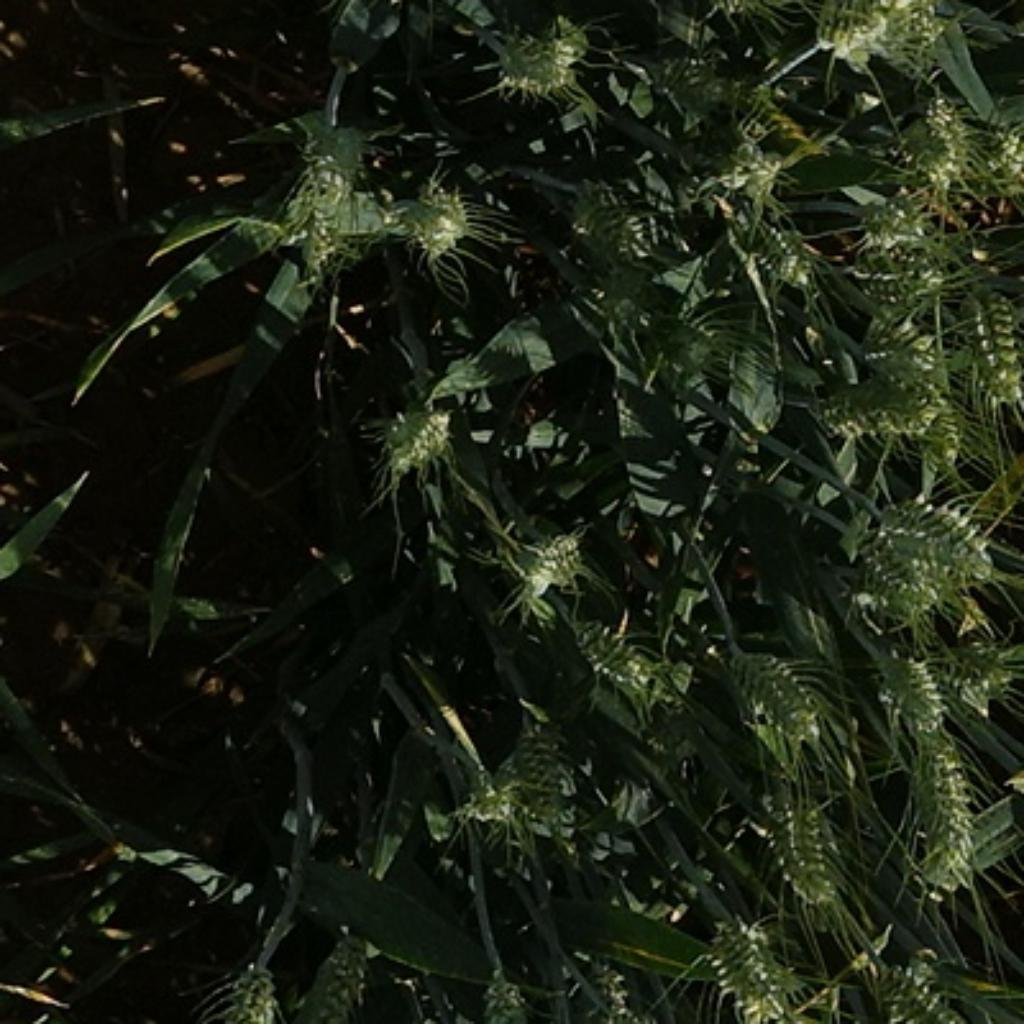0-0: (448, 704, 588, 855), (268, 128, 381, 307), (814, 332, 965, 465), (847, 158, 952, 330), (586, 276, 734, 396), (747, 778, 860, 913), (883, 87, 1024, 194), (878, 481, 1000, 596), (371, 153, 478, 279), (903, 714, 980, 880), (696, 908, 798, 1021), (563, 604, 675, 706), (709, 65, 821, 159), (721, 657, 844, 742), (819, 0, 952, 76), (954, 273, 1024, 407), (560, 179, 657, 273), (727, 199, 821, 289), (282, 931, 372, 1023), (486, 15, 586, 97), (926, 629, 1018, 711), (373, 391, 458, 476), (857, 532, 936, 622), (872, 958, 975, 1024), (870, 647, 947, 734), (509, 519, 591, 599), (705, 152, 792, 227), (460, 946, 542, 1024), (209, 954, 291, 1024)
